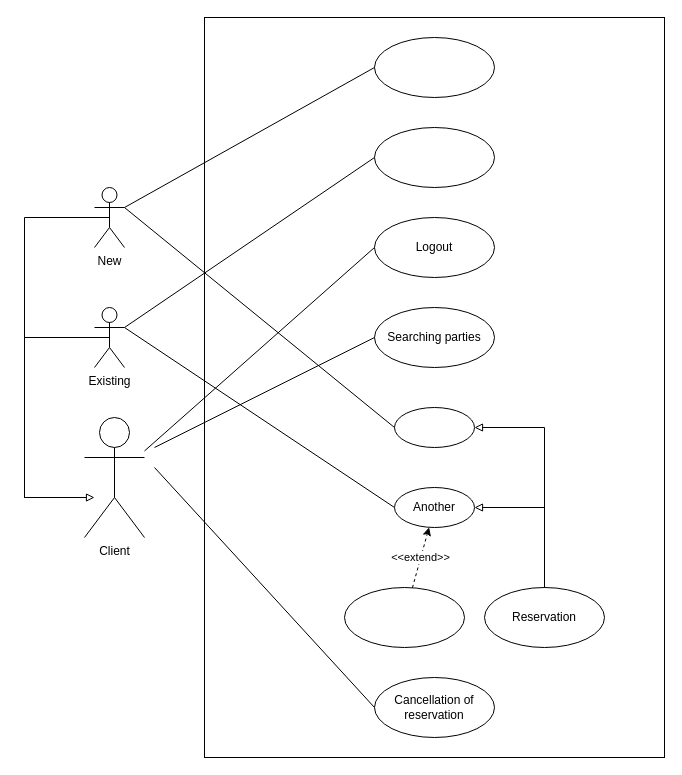
This 682x775 diagram has some shape labels left out. Each missing label, with the centre of its shape:
"Apply cupoun" belongs at (x=404, y=617).
"First" belongs at (x=434, y=427).
"Login" belongs at (x=434, y=157).
"Registration" belongs at (x=434, y=67).
